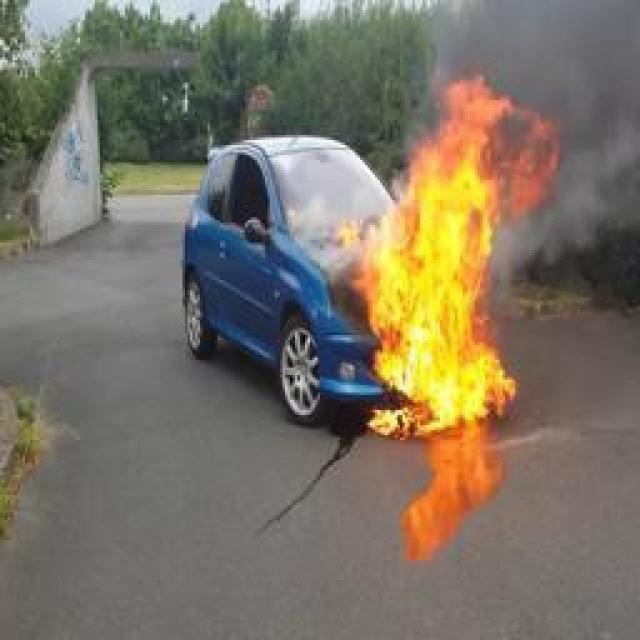Fire: (339, 74, 569, 436)
